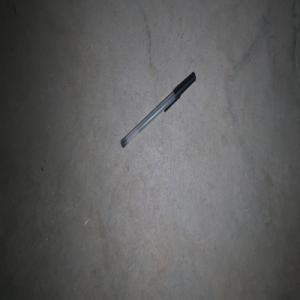Pen: (121, 71, 196, 148)
